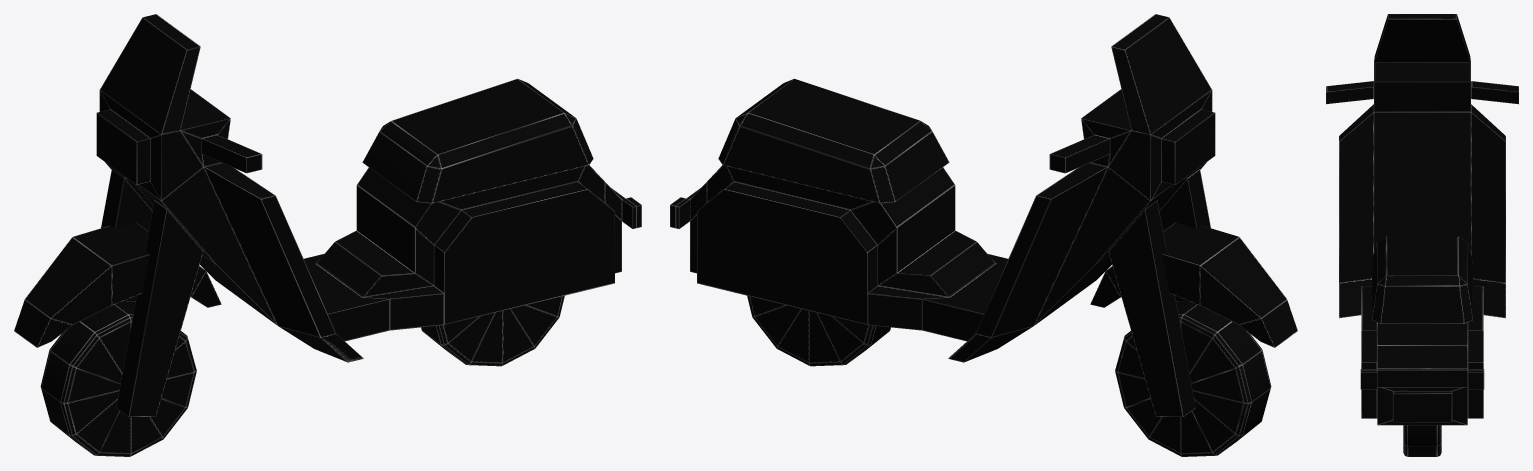
File: moto.fbx
3 views of the same model, side by side, from view 1: azimuth 30°, elevation 25°; view 2: azimuth 150°, elevation 25°; view 3: azimuth 270°, elevation 25° (orthographic). The views are drawn at different scales.
Visible parts, largest first — view 1: pCube1, pCylinder2, pCube2, pCylinder1; view 2: pCube1, pCylinder2, pCube2, pCylinder1; view 3: pCube1, pCylinder1.
Boxes of the visible parts, bbox=[...] form: pCube1: bbox=[96, 14, 641, 416]; pCylinder2: bbox=[40, 301, 196, 456]; pCube2: bbox=[14, 222, 221, 347]; pCylinder1: bbox=[421, 295, 564, 366]; pCube1: bbox=[670, 14, 1215, 416]; pCylinder2: bbox=[1115, 301, 1271, 456]; pCube2: bbox=[1090, 222, 1297, 347]; pCylinder1: bbox=[747, 295, 890, 366]; pCube1: bbox=[1326, 14, 1518, 425]; pCylinder1: bbox=[1403, 425, 1441, 456].
Bounding box in the file's own units: 8.47 × 5.69 × 3.16.
1 material, 1 textured.
